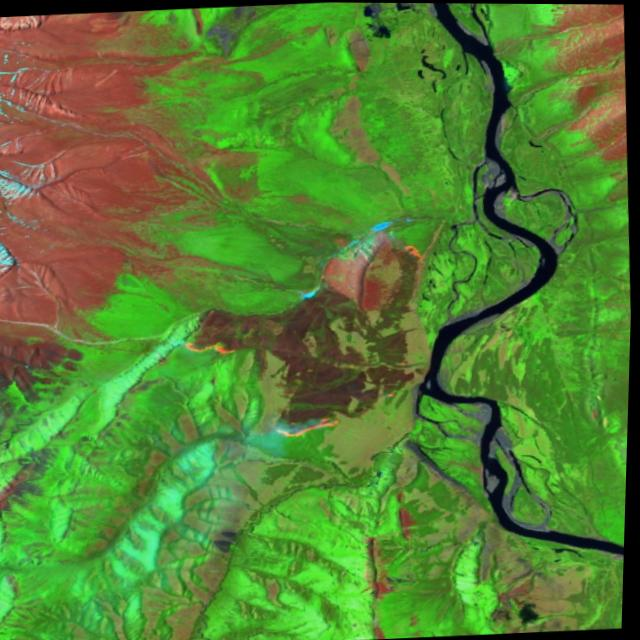fire: (273, 408, 351, 441), (181, 332, 243, 359), (402, 237, 432, 263)
